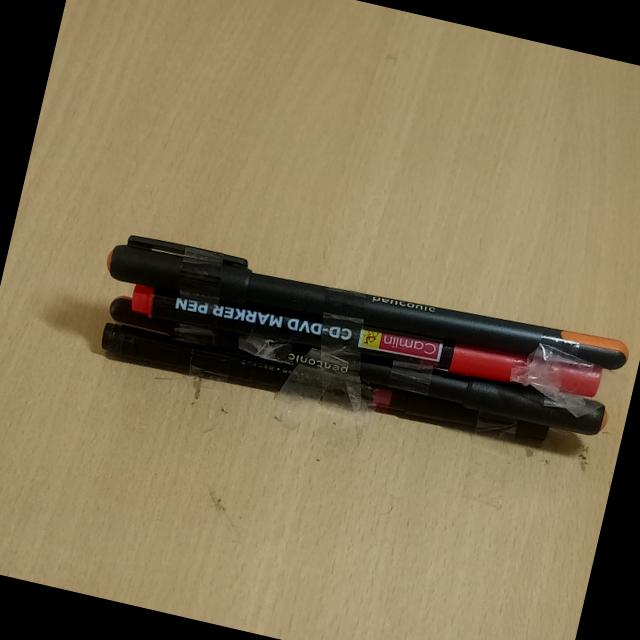pen: (84, 199, 636, 380)
